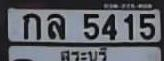1: (123, 13, 132, 39)
4: (101, 13, 116, 39)
5: (139, 13, 154, 39), (83, 13, 98, 39)
A01: (22, 12, 40, 39)
A36: (47, 13, 64, 38)
SRI: (57, 44, 108, 61)
